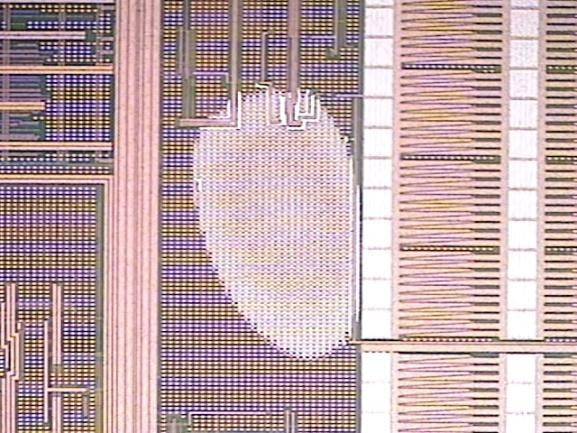BLOCK ETCH: (191, 85, 370, 362)
